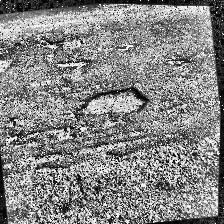pothole: (74, 82, 152, 122), (33, 26, 93, 74)
